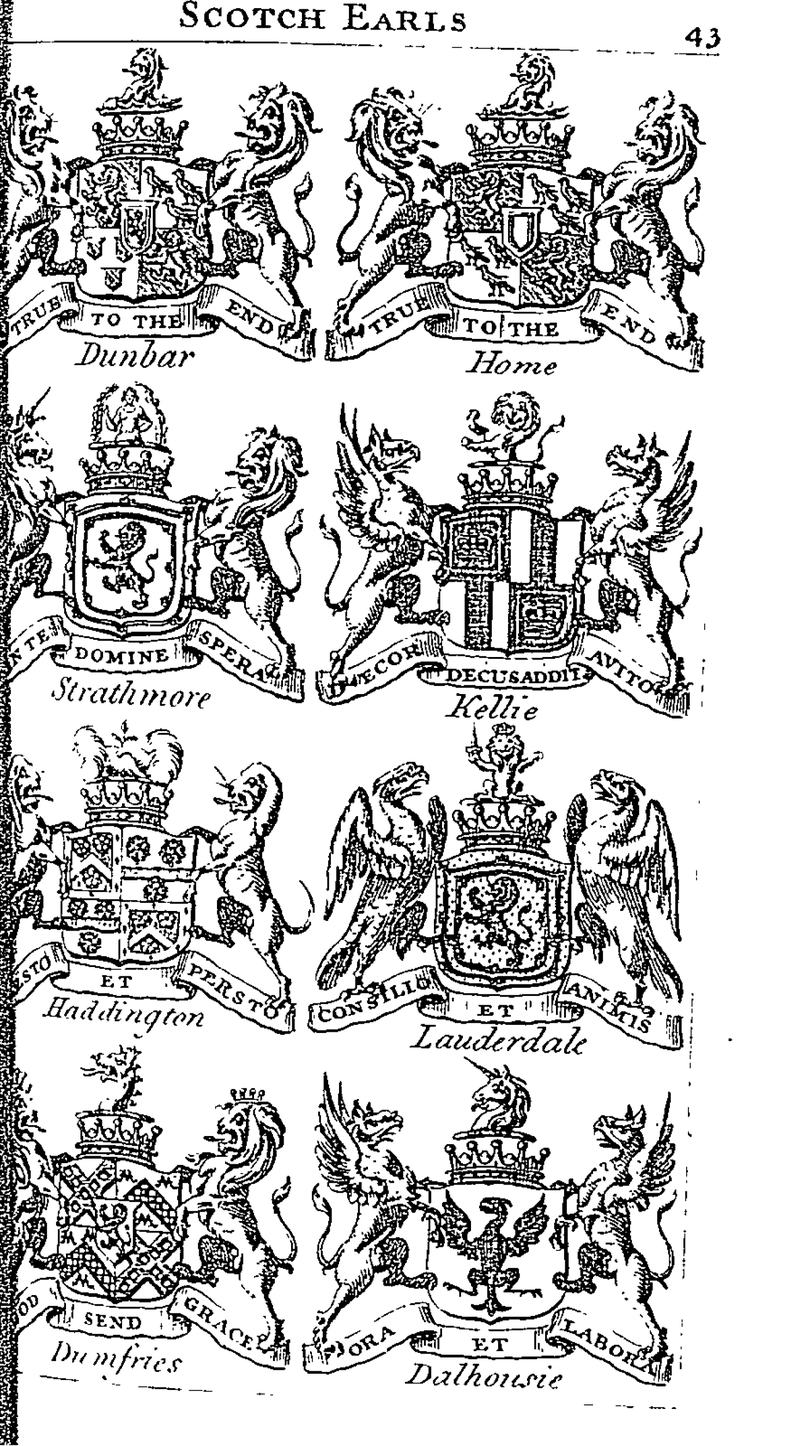coat_of_arms: (287, 1046, 702, 1420), (312, 47, 710, 395), (318, 391, 696, 735), (305, 731, 689, 1069), (1, 51, 329, 388), (13, 1041, 304, 1398), (1, 381, 307, 720), (7, 714, 305, 1051)
